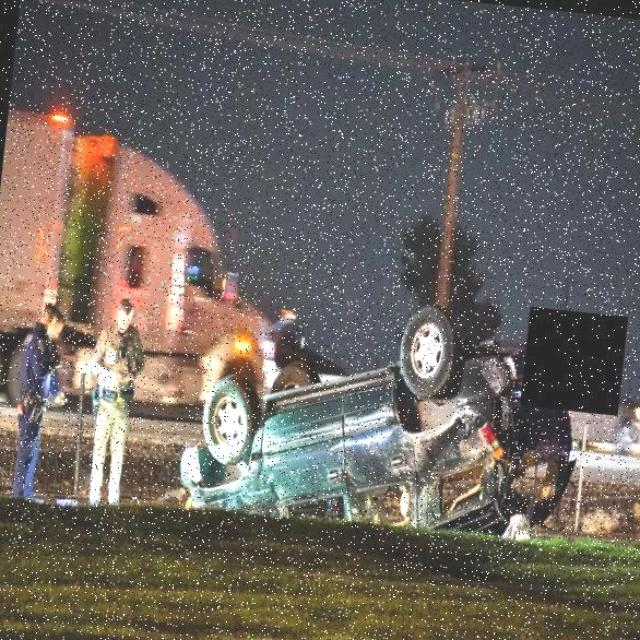accident: (170, 271, 594, 546)
